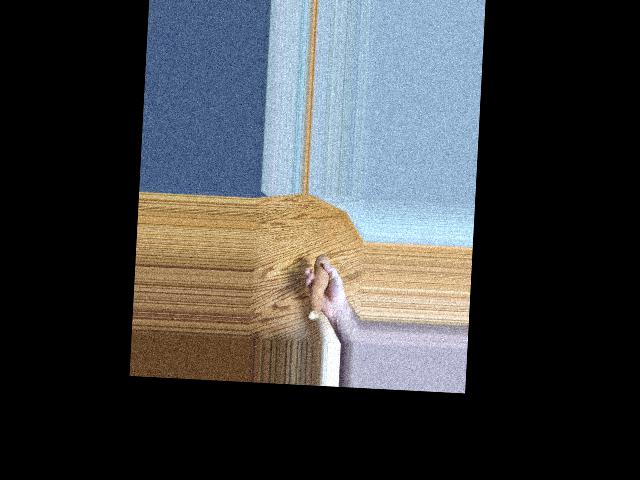sweet_potato: (307, 258, 331, 315)
